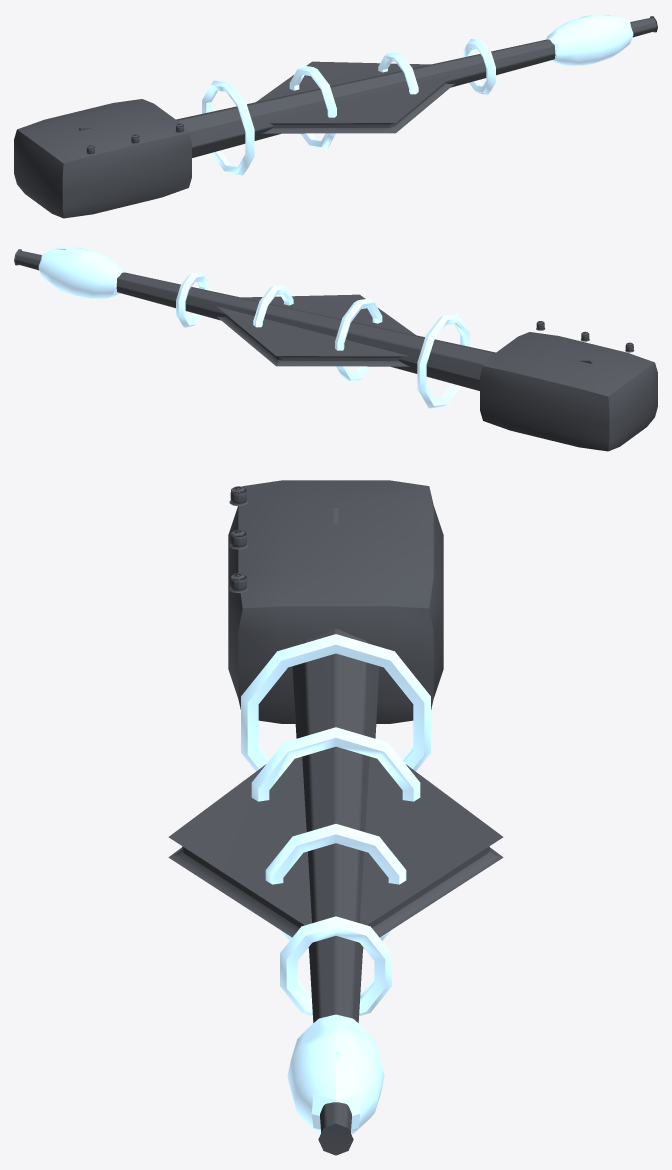
The model's file is _weapon_beam_slicer_elite_export.glb.
3 renders of one model, top to bottom at view 1: azimuth 30°, elevation 25°; view 2: azimuth 150°, elevation 25°; view 3: azimuth 270°, elevation 25°, orthographic. The views are drawn at different scales.
Visible parts, largest first — view 1: weapon_lance_Material_Hull_Merged, weapon_lance_Material_Mechanical_Merged, weapon_lance_Material_Accent_Merged; view 2: weapon_lance_Material_Hull_Merged, weapon_lance_Material_Mechanical_Merged, weapon_lance_Material_Accent_Merged; view 3: weapon_lance_Material_Hull_Merged, weapon_lance_Material_Accent_Merged, weapon_lance_Material_Mechanical_Merged.
Boxes of the visible parts, <box> form: weapon_lance_Material_Hull_Merged: <box>14,61,454,218</box>; weapon_lance_Material_Mechanical_Merged: <box>86,16,657,157</box>; weapon_lance_Material_Accent_Merged: <box>202,14,633,175</box>; weapon_lance_Material_Hull_Merged: <box>217,294,657,451</box>; weapon_lance_Material_Mechanical_Merged: <box>14,249,634,390</box>; weapon_lance_Material_Accent_Merged: <box>38,247,469,408</box>; weapon_lance_Material_Hull_Merged: <box>168,480,503,947</box>; weapon_lance_Material_Accent_Merged: <box>241,634,430,1134</box>; weapon_lance_Material_Mechanical_Merged: <box>229,486,379,1155</box>.
Bounding box in the file's own units: 7.65 × 1.07 × 1.79.
